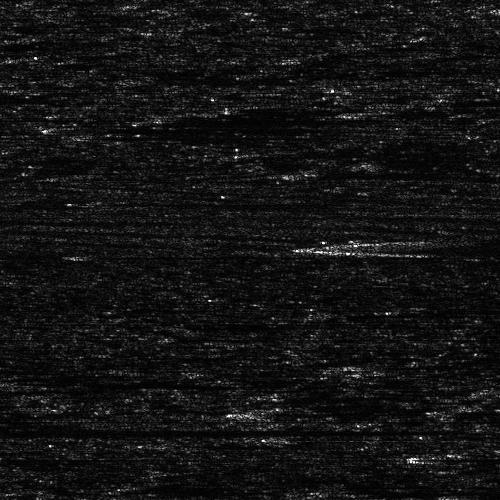object: (62, 195, 177, 206)
shadow: (120, 195, 299, 206), (0, 214, 74, 225), (0, 114, 76, 119)
